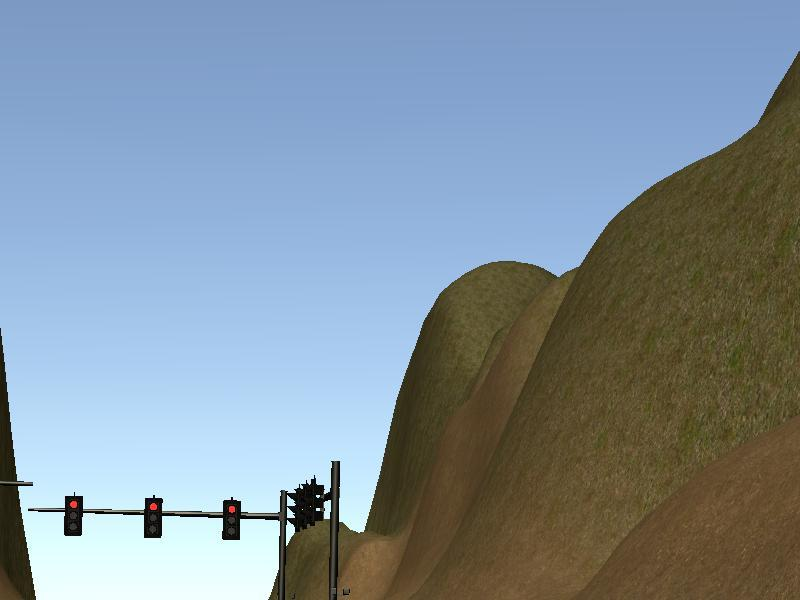Red: (62, 496, 82, 534), (222, 499, 240, 540), (144, 498, 162, 538)
